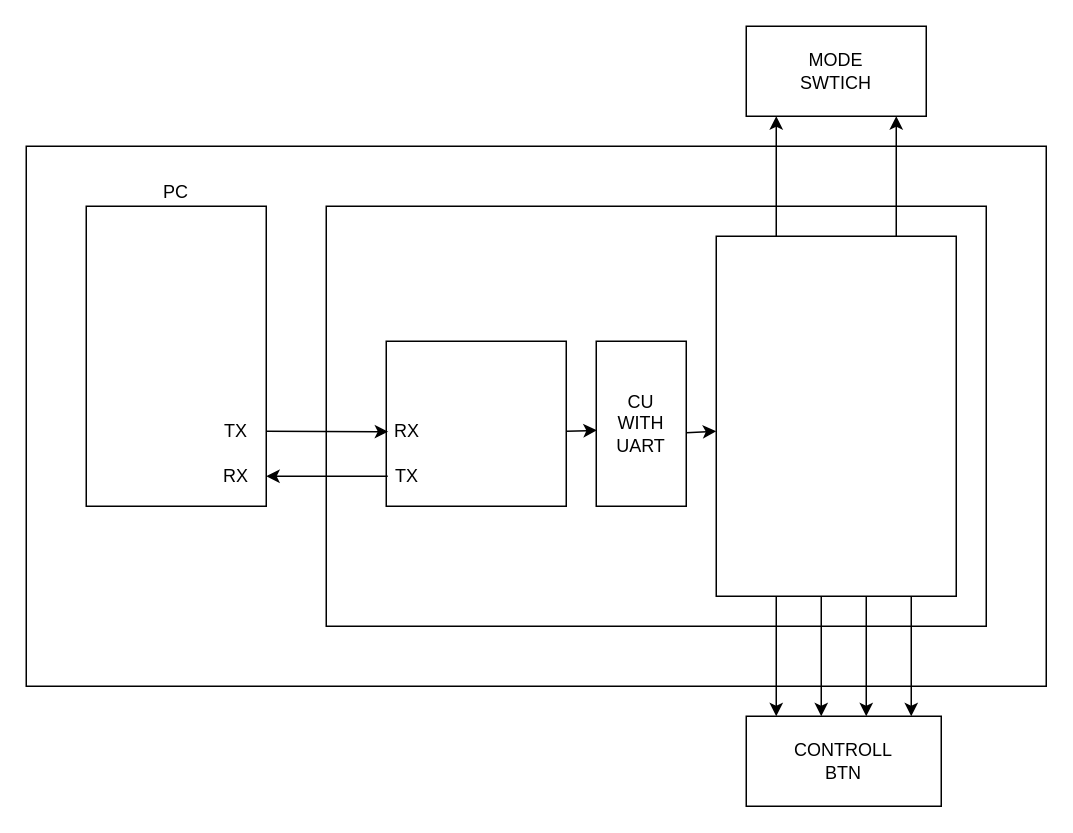
This 1073x833 diagram has some shape labels left out. Here are the shapes that lost their labels. From the top down, the box of each, then its label:
(385, 340, 566, 506): UART_FIFO
(715, 235, 956, 596): STOPWATCH / WATCH
